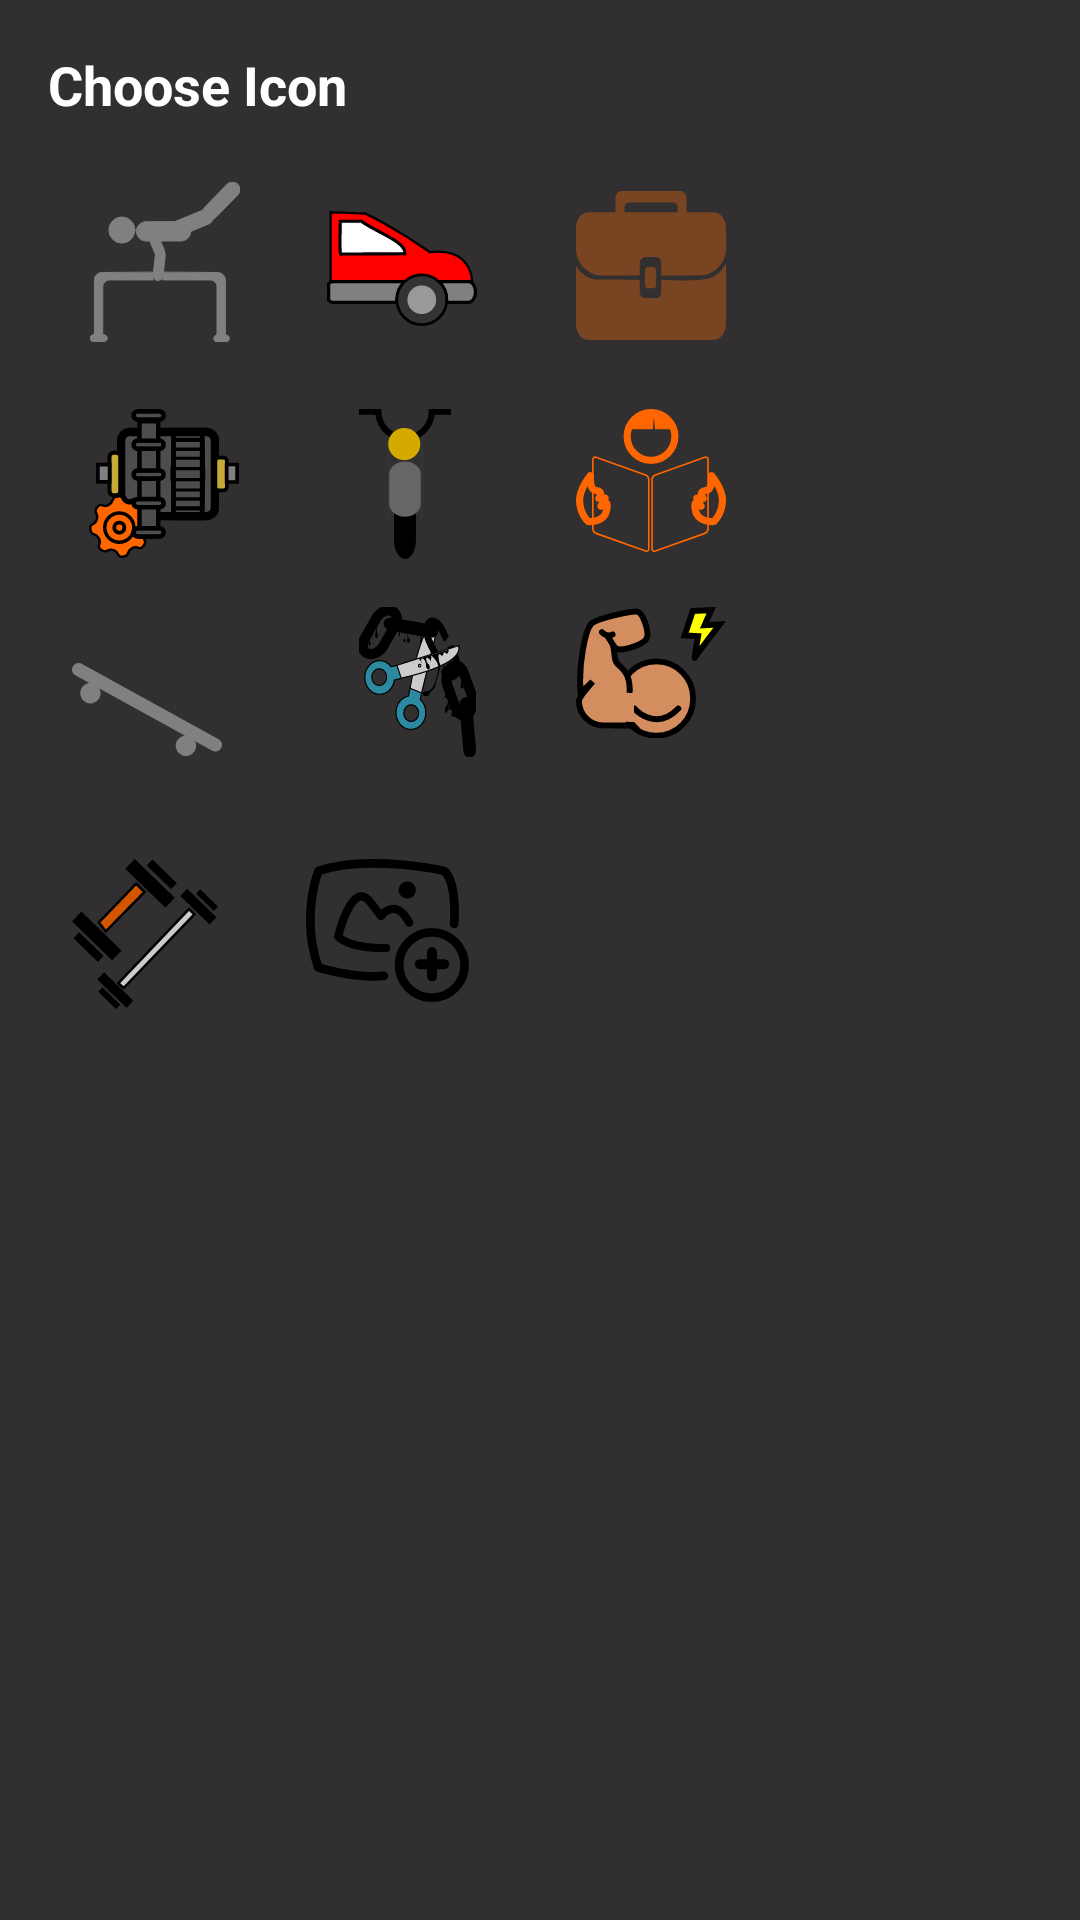

Point at icon controls on the screen. Image size 1080*1920, points as (x,y).
addimage: (387,930)
caliistenic: (165,262)
car: (402,268)
job: (651,265)
mechanical: (164,483)
motrcycle: (405,484)
reading: (651,480)
skate time: (147,709)
stopthebadhabits: (417,682)
workout: (651,672), (145,934)
